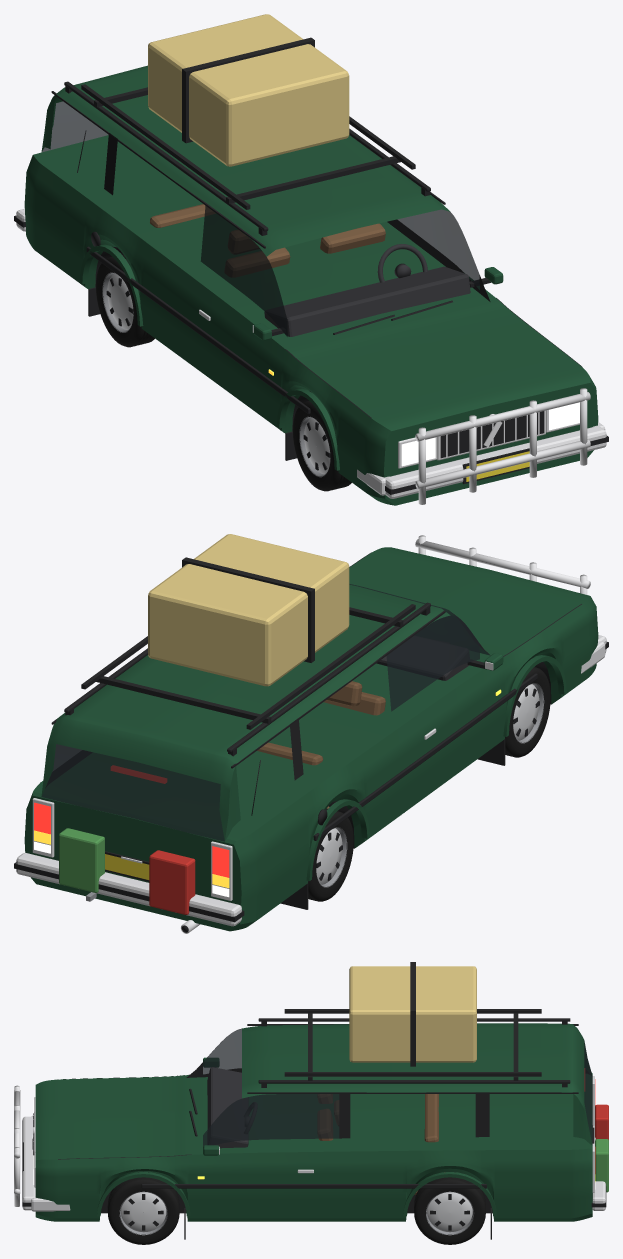
Rendered from volvi.glb.
3 renders of one model, top to bottom at view 1: azimuth 30°, elevation 25°; view 2: azimuth 150°, elevation 25°; view 3: azimuth 270°, elevation 25°, orthographic. The views are drawn at different scales.
Parts seen in each view (by area): view 1: tub, hay_bale, cabin_roof, hood, quarter_R, nose, cabin_glass, door_R, dash, fender_R, wheel_FR, wheel_RR (+19 smaller); view 2: cabin_roof, hay_bale, tub, cabin_glass, tail, quarter_R, hood, door_R, fender_R, nose, bumper_rear, wheel_FR (+21 smaller); view 3: tub, cabin_roof, quarter_L, hay_bale, hood, door_L, cabin_glass, fender_L, wheel_FL, wheel_RL, nose, dash (+18 smaller).
Part boxes in pixels (x1,y1,x2,y2): tub: [41, 143, 495, 349]; hay_bale: [148, 14, 349, 166]; cabin_roof: [41, 65, 450, 256]; hood: [286, 298, 581, 417]; quarter_R: [32, 163, 188, 358]; nose: [363, 367, 598, 505]; cabin_glass: [42, 101, 479, 336]; door_R: [181, 275, 285, 428]; dash: [264, 266, 470, 336]; fender_R: [278, 350, 371, 491]; wheel_FR: [292, 401, 351, 491]; wheel_RR: [96, 254, 154, 347]; cabin_roof: [41, 584, 450, 841]; hay_bale: [148, 534, 349, 686]; tub: [41, 654, 486, 833]; cabin_glass: [41, 584, 490, 841]; tail: [24, 782, 258, 931]; quarter_R: [248, 727, 407, 926]; hood: [349, 552, 580, 658]; door_R: [399, 667, 503, 811]; fender_R: [498, 604, 589, 740]; nose: [372, 547, 598, 677]; bumper_rear: [16, 853, 241, 926]; wheel_FR: [505, 667, 550, 757]; tub: [191, 1077, 573, 1154]; cabin_roof: [242, 1023, 592, 1145]; quarter_L: [342, 1149, 573, 1221]; hay_bale: [349, 966, 476, 1062]; hood: [58, 1075, 191, 1158]; door_L: [191, 1151, 341, 1221]; cabin_glass: [203, 1029, 592, 1146]; fender_L: [58, 1155, 191, 1221]; wheel_FL: [107, 1177, 179, 1244]; wheel_RL: [414, 1177, 485, 1244]; nose: [35, 1079, 57, 1221]; dash: [207, 1067, 248, 1148].
Size of the model in its own units: 1.86 by 2.08 by 5.13.
